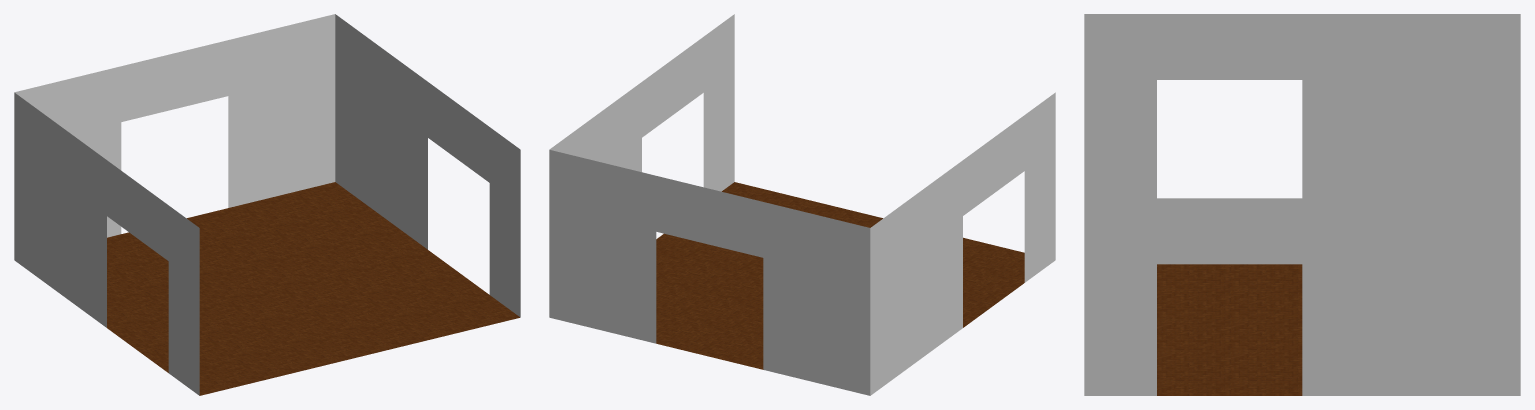
Rendered from house_floor_base_room1.fbx.
3 renders of one model, left to right at view 1: azimuth 30°, elevation 25°; view 2: azimuth 150°, elevation 25°; view 3: azimuth 270°, elevation 25°, orthographic. The views are drawn at different scales.
Visible parts, largest first — view 1: room1_walls, room1_floor; view 2: room1_walls, room1_floor; view 3: room1_walls, room1_floor.
Part boxes in pixels (x1,y1,x2,y2): room1_walls: (14,14,520,395); room1_floor: (107,182,519,395); room1_walls: (549,14,1055,395); room1_floor: (656,182,1024,369); room1_walls: (1084,14,1520,395); room1_floor: (1157,264,1302,395).
Bounding box in the file's own units: 192 × 96 × 192.
